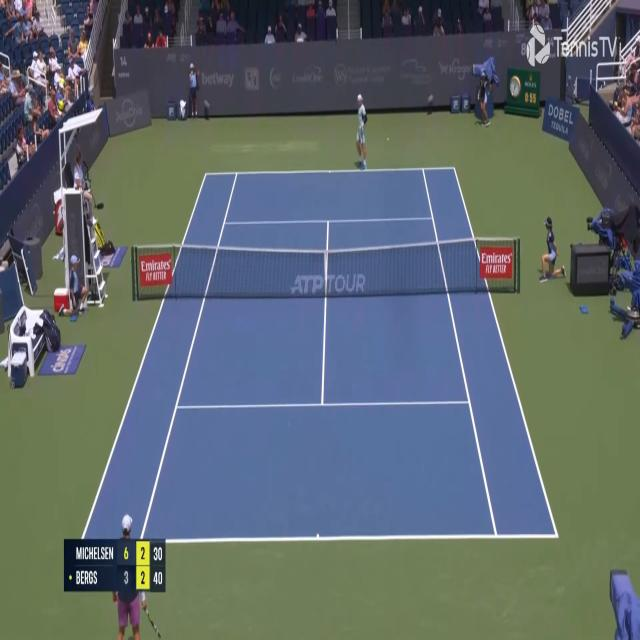tennis-player: (109, 508, 166, 639), (354, 92, 368, 172)
